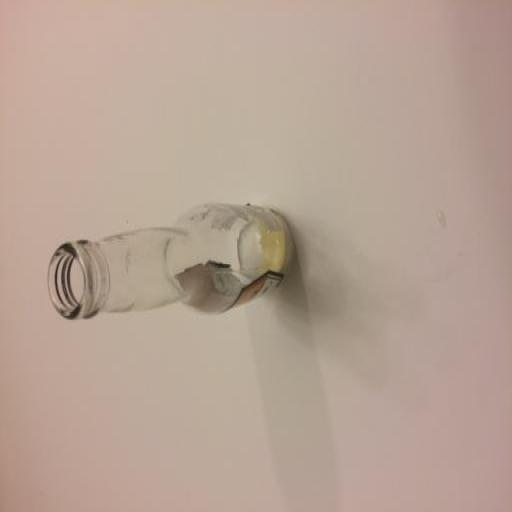glass bottle: (47, 200, 295, 325)
